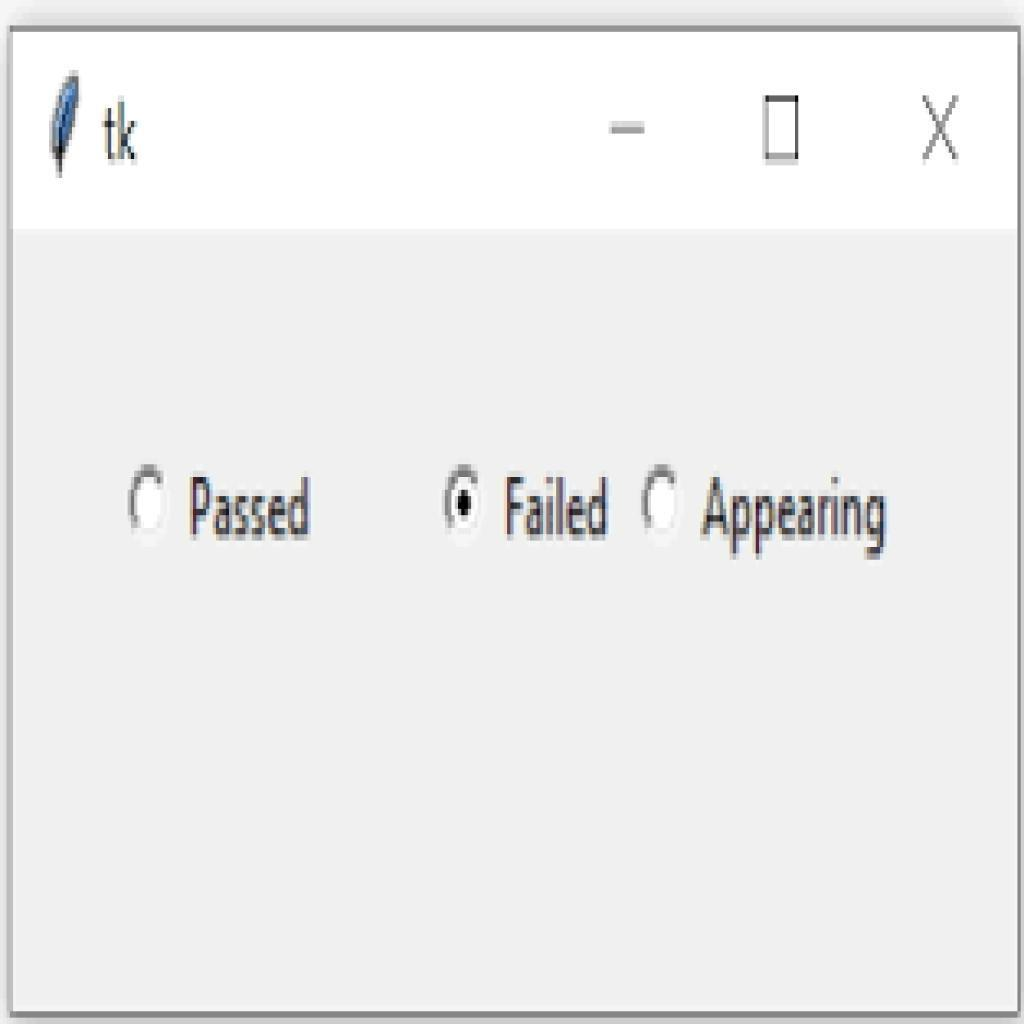icon: (912, 90, 971, 171), (760, 88, 809, 174), (608, 102, 652, 149)
label: (698, 474, 891, 564), (191, 468, 315, 549), (502, 470, 610, 544)
radio: (441, 461, 488, 551), (123, 461, 174, 539), (641, 464, 685, 539)
